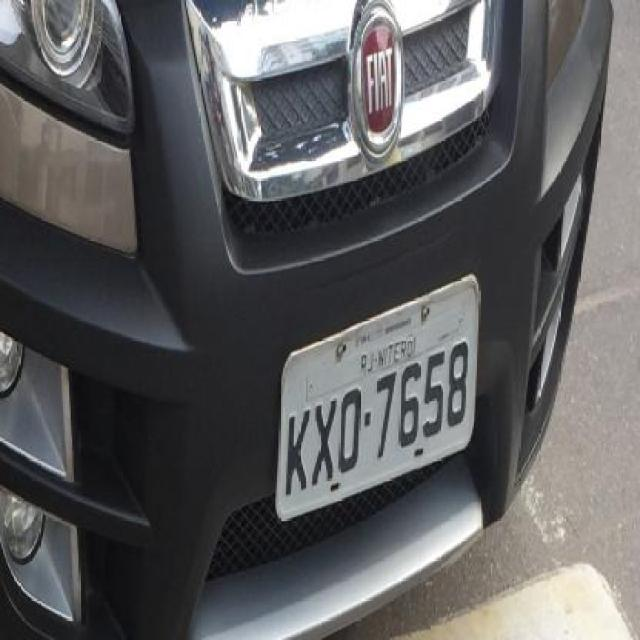old_plate: (266, 268, 488, 530)
